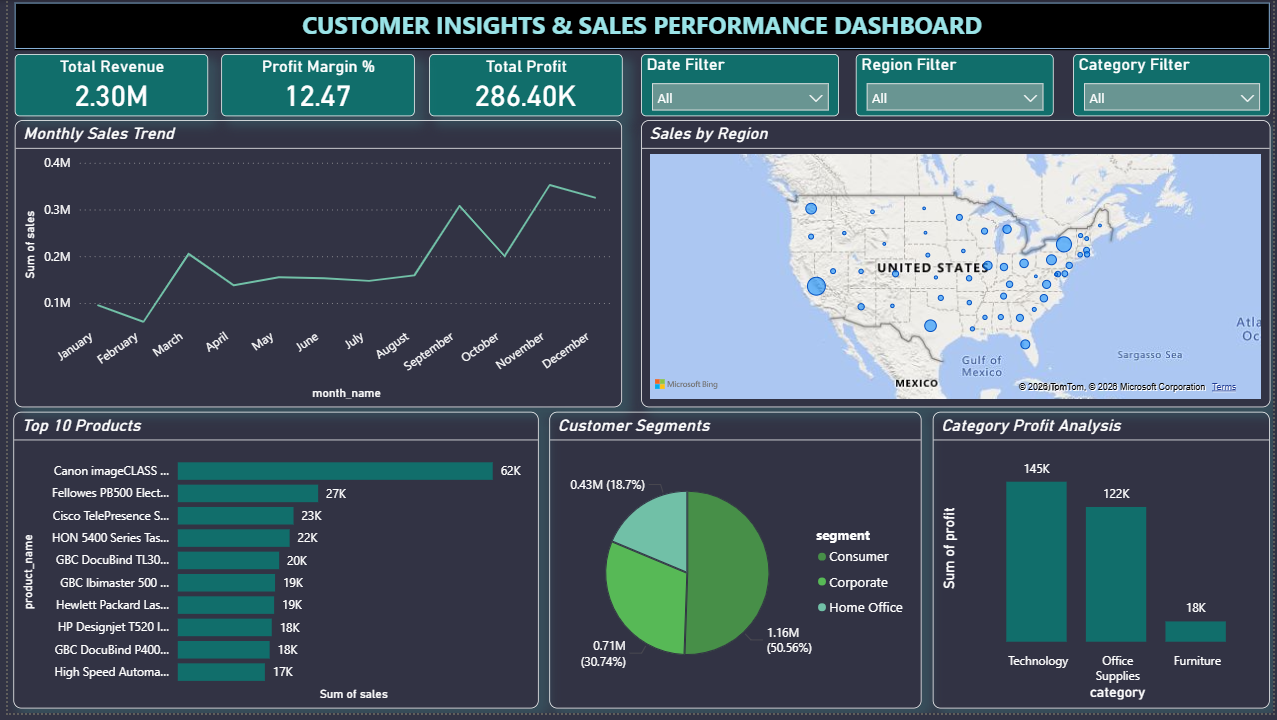

Layout of this report page (visuals, bound fields, positions):
{"tool":"powerbi","page":{"name":"Page 3","canvas":[1280,720],"ordinal":0},"visuals":[{"type":"card","title":"Total Revenue","fields":{"Values":["Sum(cleaned_superstore_data.sales)"]},"box":[6.4,54.5,195.9,63.2],"z":0},{"type":"card","title":"Total Profit","fields":{"Values":["Sum(cleaned_superstore_data.profit)"]},"box":[425.5,54.5,195.5,63.2],"z":1000},{"type":"card","title":"Profit Margin %","fields":{"Values":["cleaned_superstore_data.Profit Margin %"]},"box":[215.5,54.5,195.5,63.2],"z":2000},{"type":"slicer","title":"Date Filter","fields":{"Values":["cleaned_superstore_data.order_date"]},"box":[640,54.5,200,63.2],"z":3000},{"type":"slicer","title":"Region Filter","fields":{"Values":["cleaned_superstore_data.region"]},"box":[857.3,54.5,200,63.2],"z":4000},{"type":"slicer","title":"Category Filter","fields":{"Values":["cleaned_superstore_data.category"]},"box":[1076.5,55,199.5,63],"z":5000},{"type":"lineChart","title":"Monthly Sales Trend","fields":{"Y":["Sum(cleaned_superstore_data.sales)"],"Category":["cleaned_superstore_data.month_name"]},"box":[7,121,614,290],"z":6000},{"type":"map","title":"Sales by Region","fields":{"Category":["cleaned_superstore_data.state"],"Size":["Sum(cleaned_superstore_data.sales)"]},"box":[640,121,636,290],"z":7000},{"type":"clusteredBarChart","title":"Top 10 Products","fields":{"Category":["cleaned_superstore_data.product_name"],"Y":["Sum(cleaned_superstore_data.sales)"]},"box":[6,416,531.3,300],"z":8000},{"type":"pieChart","title":"Customer Segments","fields":{"Category":["cleaned_superstore_data.segment"],"Y":["Sum(cleaned_superstore_data.sales)"]},"box":[547.5,416.2,376.2,300],"z":9000},{"type":"clusteredColumnChart","title":"Category Profit Analysis","fields":{"Category":["cleaned_superstore_data.category"],"Y":["Sum(cleaned_superstore_data.profit)"]},"box":[935,416.5,341,300],"z":10000},{"type":"shape","box":[6.7,3.8,1269.5,46.7],"z":11000},{"type":"textbox","box":[7,3,1269,47],"z":12000}]}

Visuals, with their boxes in screenshot pixels (x1, y1, x2, y2), scaled from the page's 1280x720 canvas onto the 1277x720 screenshot:
"Total Revenue" card: [left=6, top=54, right=202, bottom=118]
"Total Profit" card: [left=425, top=54, right=620, bottom=118]
"Profit Margin %" card: [left=215, top=54, right=410, bottom=118]
"Date Filter" slicer: [left=638, top=54, right=838, bottom=118]
"Region Filter" slicer: [left=855, top=54, right=1055, bottom=118]
"Category Filter" slicer: [left=1074, top=55, right=1273, bottom=118]
"Monthly Sales Trend" lineChart: [left=7, top=121, right=620, bottom=411]
"Sales by Region" map: [left=638, top=121, right=1273, bottom=411]
"Top 10 Products" clusteredBarChart: [left=6, top=416, right=536, bottom=716]
"Customer Segments" pieChart: [left=546, top=416, right=922, bottom=716]
"Category Profit Analysis" clusteredColumnChart: [left=933, top=416, right=1273, bottom=716]
shape: [left=7, top=4, right=1273, bottom=50]
textbox: [left=7, top=3, right=1273, bottom=50]
